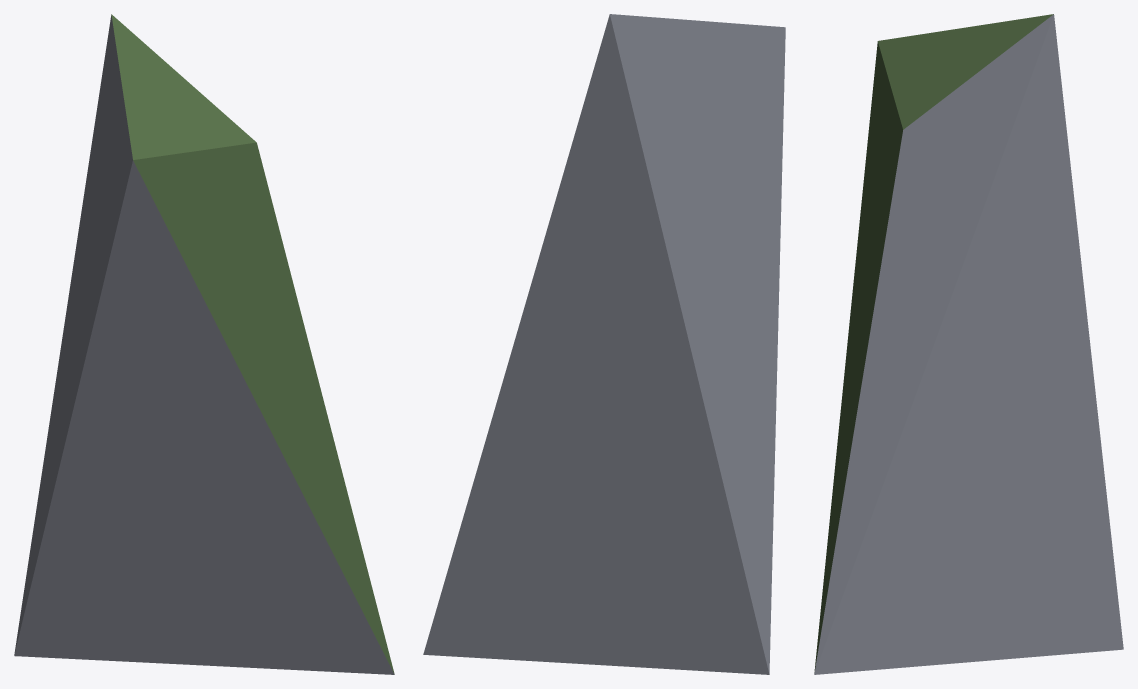
File: Rock_Moss_1.lod3.glb
The picture shows the model from 3 angles, left to right: view 1: azimuth 30°, elevation 25°; view 2: azimuth 150°, elevation 25°; view 3: azimuth 270°, elevation 25°; orthographic projection. The views are drawn at different scales.
Visible parts, largest first — view 1: Rock_Moss_1; view 2: Rock_Moss_1; view 3: Rock_Moss_1.
Boxes of the visible parts, x1,y1,x2,y2 form: Rock_Moss_1: [14, 14, 394, 674]; Rock_Moss_1: [423, 14, 785, 674]; Rock_Moss_1: [814, 14, 1123, 674].
Bounding box in the file's own units: 0.4434 × 0.9183 × 0.4394.
